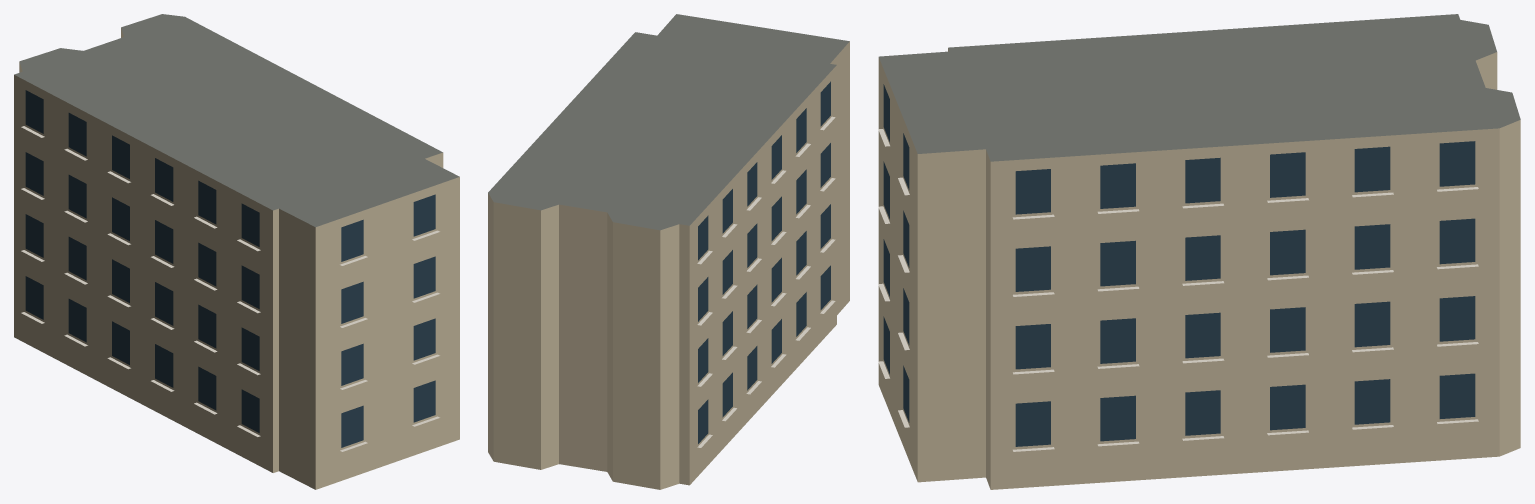
The picture shows the model from 3 angles, left to right: view 1: azimuth 30°, elevation 25°; view 2: azimuth 150°, elevation 25°; view 3: azimuth 270°, elevation 25°; orthographic projection. The views are drawn at different scales.
Visible parts, largest first — view 1: Footprint 0, Inferred window bays, Window sills; view 2: Footprint 0, Inferred window bays, Window sills; view 3: Footprint 0, Inferred window bays, Window sills.
Part boxes in pixels (x1,y1,x2,y2): Footprint 0: (14, 14, 459, 489); Inferred window bays: (25, 90, 435, 447); Window sills: (21, 126, 439, 451); Footprint 0: (488, 14, 849, 489); Inferred window bays: (698, 81, 830, 443); Window sills: (697, 116, 835, 447); Footprint 0: (878, 14, 1520, 489); Inferred window bays: (883, 84, 1475, 446); Window sills: (878, 129, 1478, 451).
Bounding box in the file's own units: 12.28 × 12.49 × 22.16.
